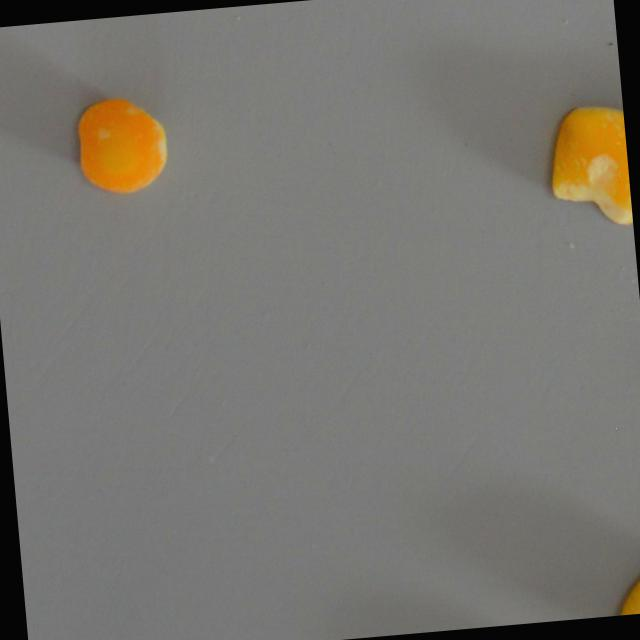no_canjicado: (67, 93, 175, 200)
pelicula: (541, 102, 633, 231), (610, 562, 640, 615)
